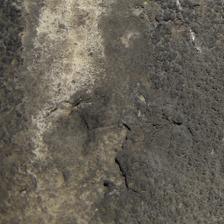Crack: (24, 50, 109, 146)
